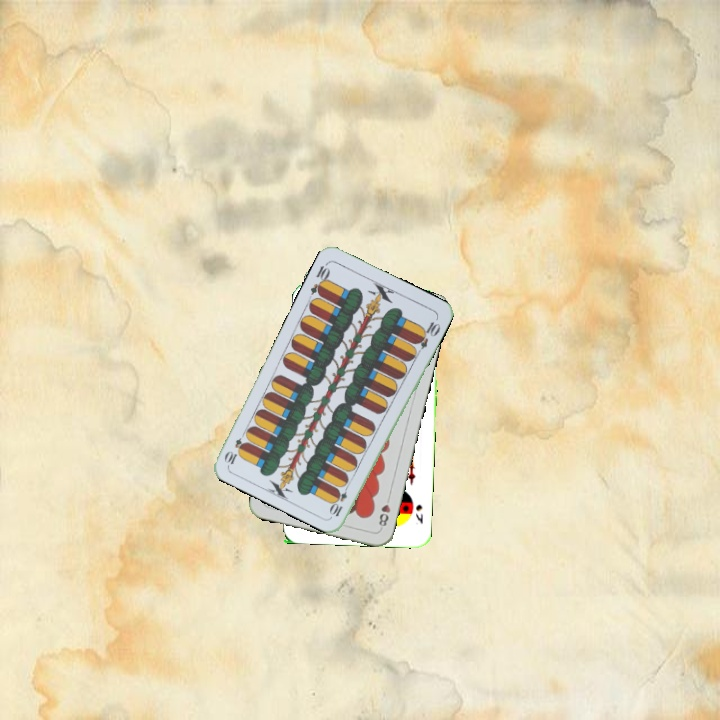E10: (306, 259, 333, 299), (327, 480, 352, 519)
H8: (375, 492, 393, 532)
SK: (412, 500, 425, 526)
